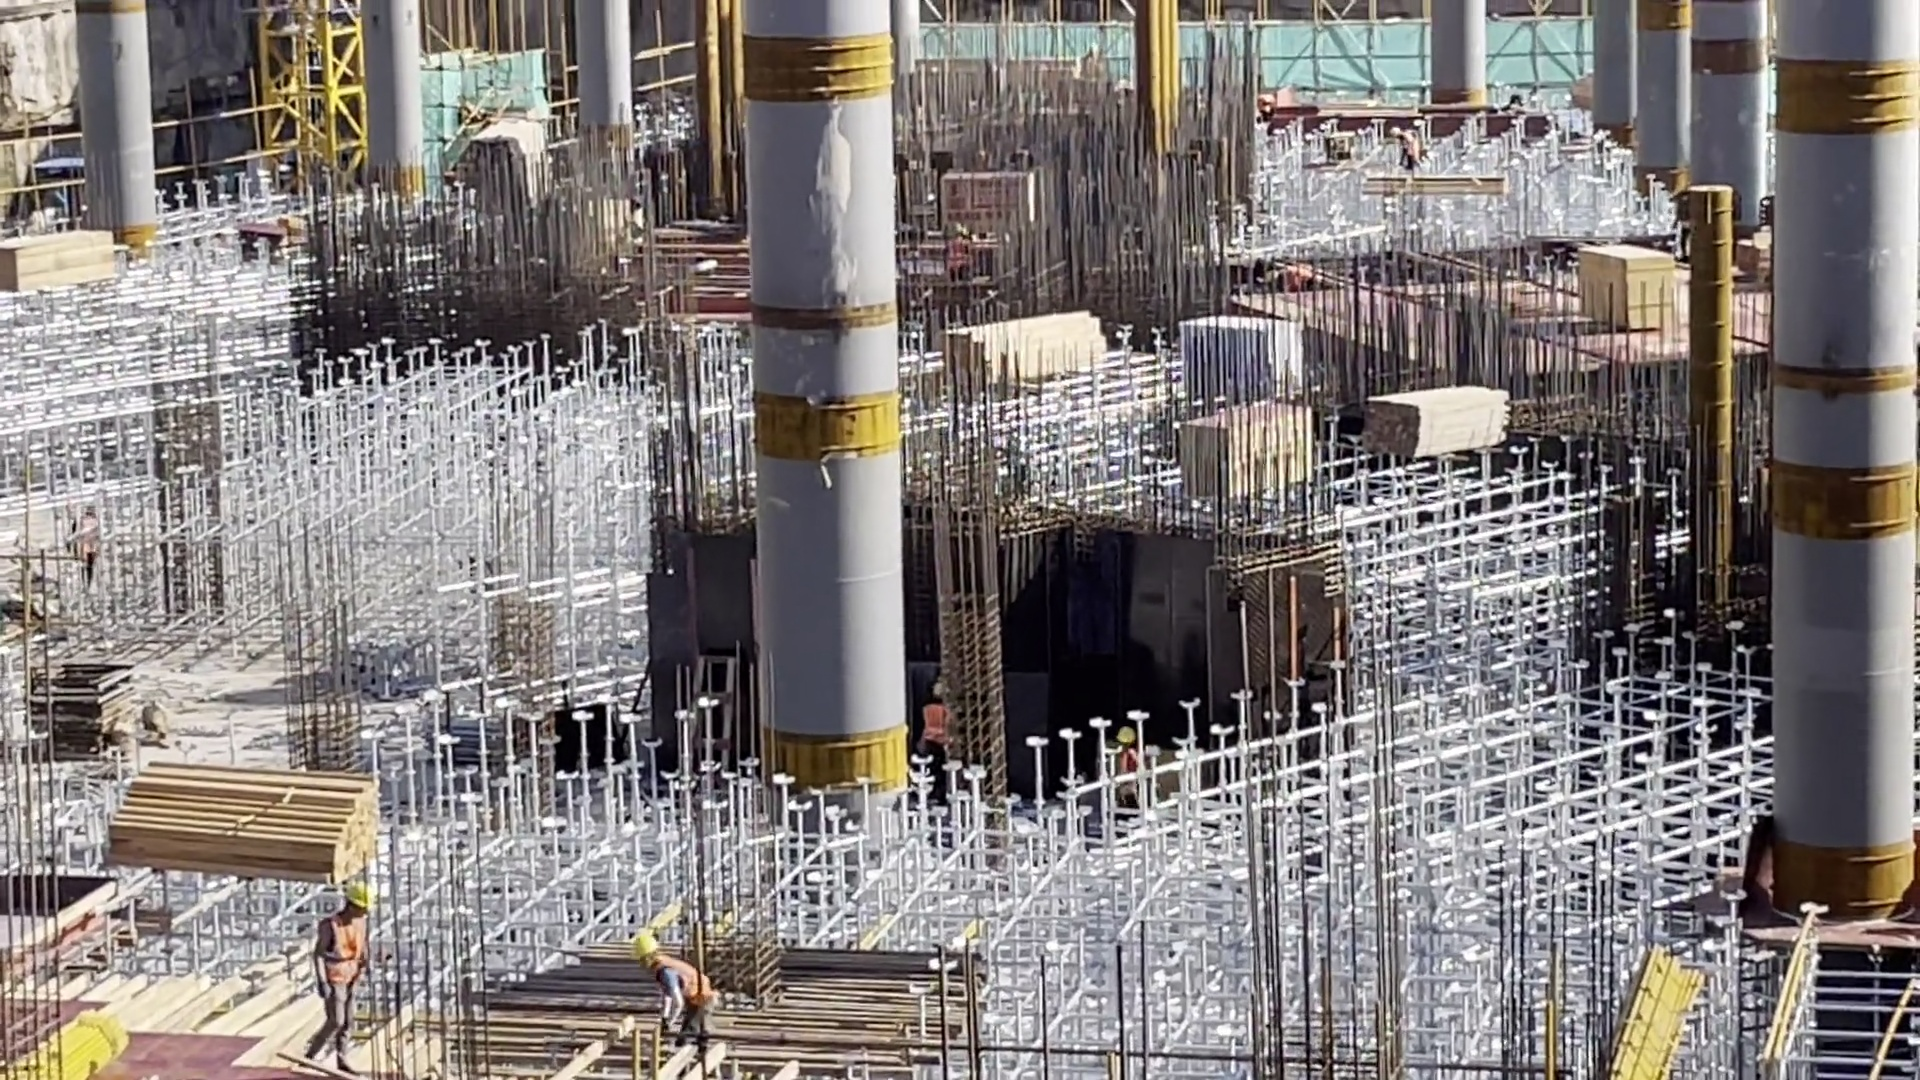board: (27, 644, 147, 774), (1575, 238, 1681, 338)
helmet: (637, 931, 675, 982), (338, 878, 374, 926), (1115, 729, 1141, 752), (926, 679, 948, 700)
person: (305, 874, 379, 1072), (634, 920, 726, 1049), (911, 676, 961, 798), (1111, 724, 1147, 801)
vest: (321, 910, 366, 992), (655, 957, 717, 1016), (921, 702, 957, 754)
wood: (101, 767, 384, 876), (941, 306, 1112, 396), (1356, 376, 1519, 466), (2, 230, 120, 299)
